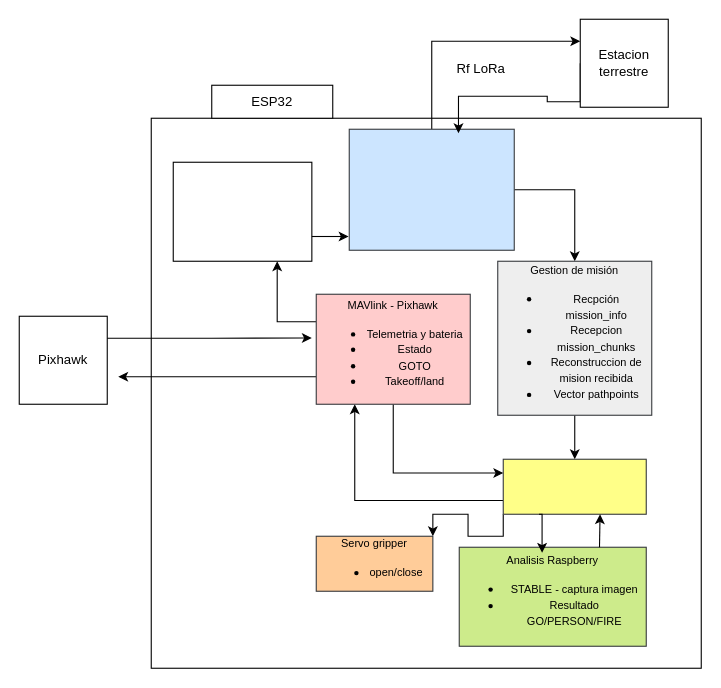
The diagram is 721 pixels wide and 688 high, and some of its shapes have lost their labels. Each missing label, with the centre of its shape:
Comunicaciones LoRa Rx y Tx Framing Gs#, UAV#, #END Parser Json Gestion ACK: the point at 431,189
Filtro GPS y sensores Media movil Rechazo de saltos warmup: the point at 242,211
Máquina de Estados (FSM): the point at 574,486
